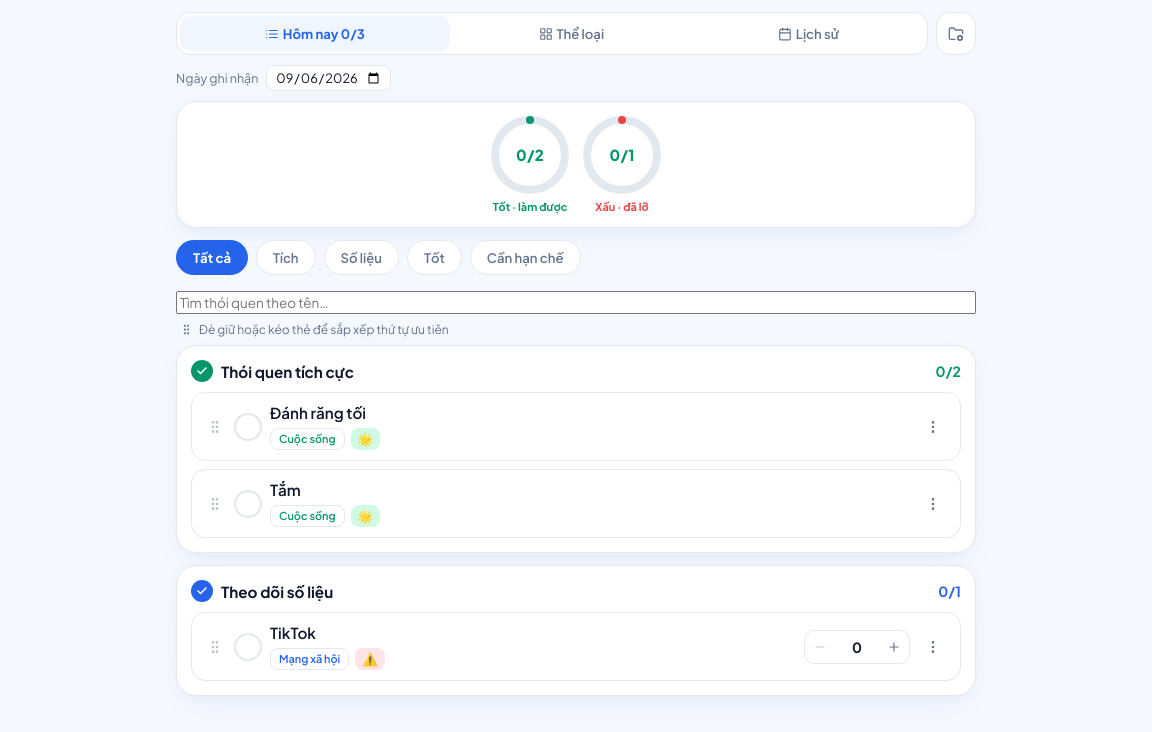
HabitsPage › lọc theo chip "Cần hạn chế" chỉ còn thói quen xấu
The image size is (1152, 732).
Check: the text "Tắm" is shown, box [270,480,301,499]
Click the button "Cần hạn chế": coordinates (525, 258) [470,240,580,275]
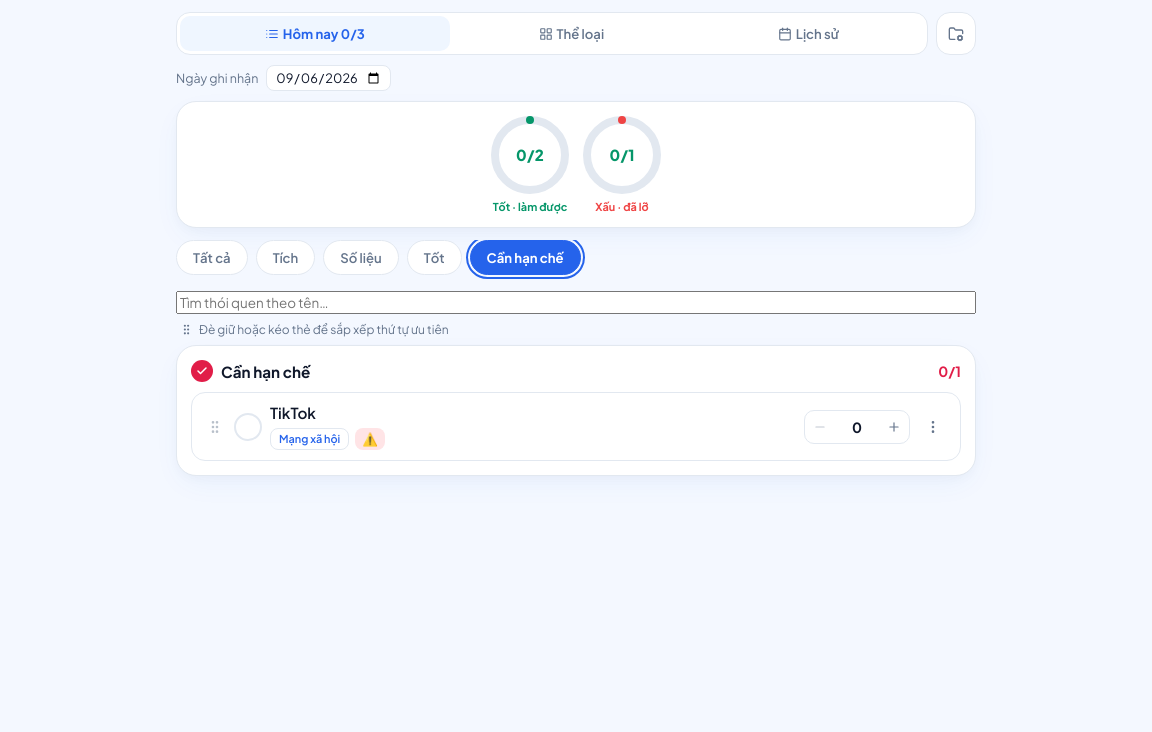
Check: the text "TikTok" is shown, box [270,403,316,422]
Check: the text "Tắm" is gone
